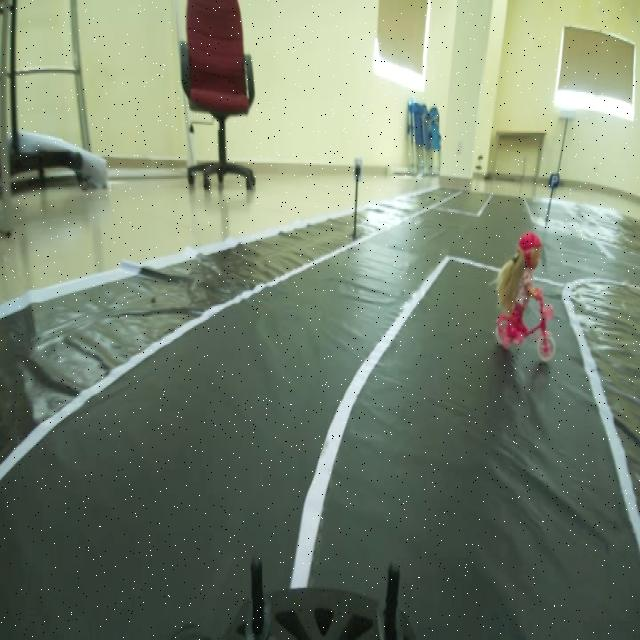pedestrian: (491, 222, 557, 358)
